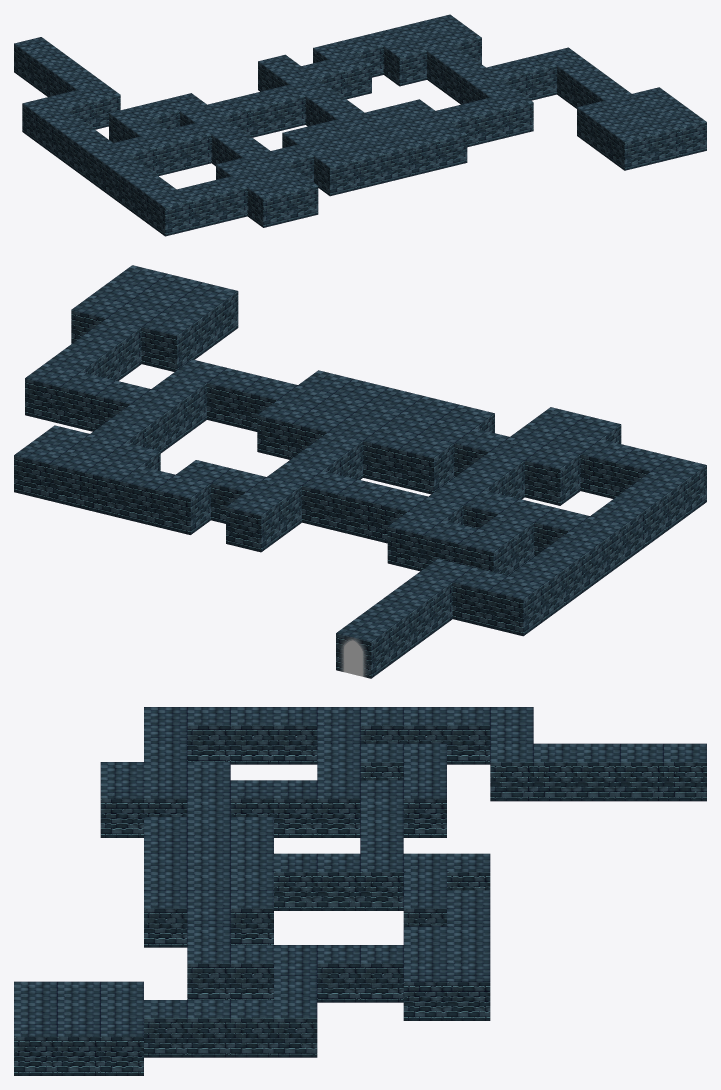
File: level.glb
3 renders of one model, top to bottom at view 1: azimuth 30°, elevation 25°; view 2: azimuth 150°, elevation 25°; view 3: azimuth 270°, elevation 25°, orthographic. The views are drawn at different scales.
Parts seen in each view (by area): view 1: Ceiling, Wall; view 2: Ceiling, Wall, Exit Doorway; view 3: Ceiling, Wall.
Boxes of the visible parts, x1,y1,x2,y2 form: Ceiling: (14, 14, 706, 207); Wall: (14, 37, 706, 236); Ceiling: (14, 265, 706, 641); Wall: (14, 291, 706, 678); Exit Doorway: (336, 633, 371, 678); Ceiling: (14, 707, 706, 1036); Wall: (14, 725, 706, 1075).
Size of the model in its own units: 18 by 1 by 16.
4 materials, 4 textured.
